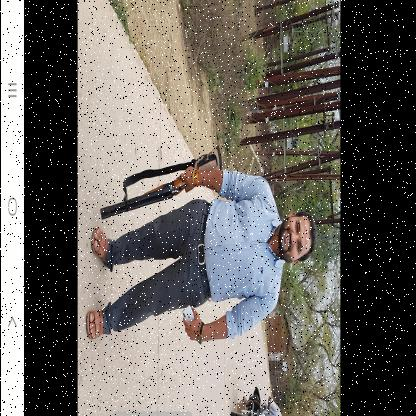rifle: (99, 144, 223, 222)
